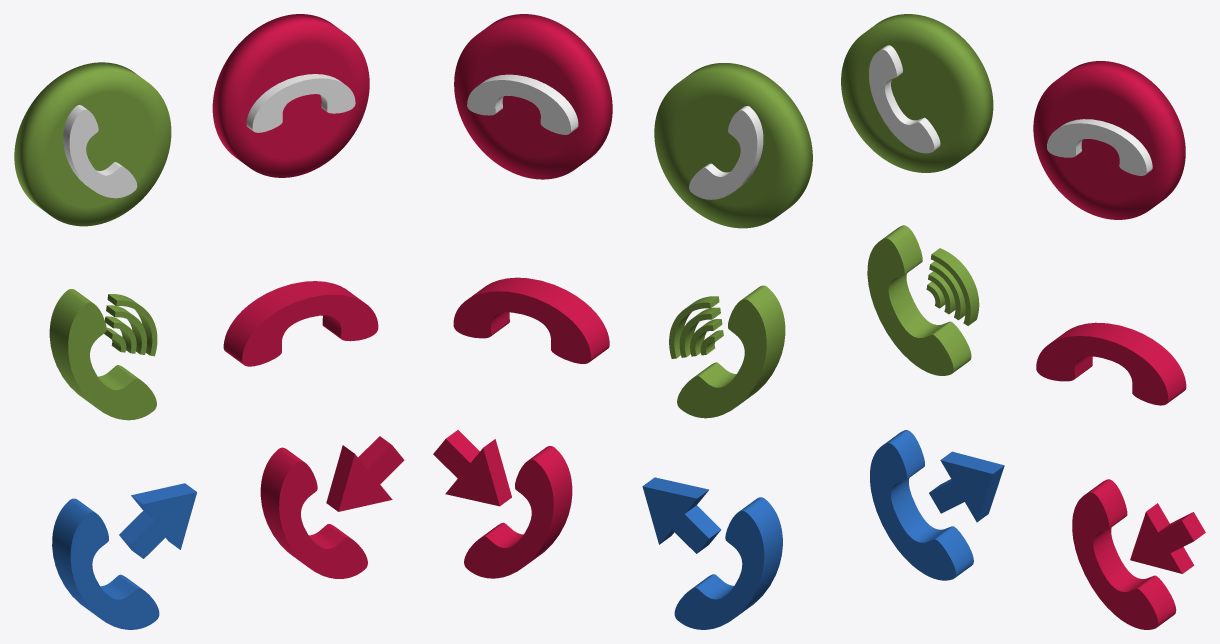
The picture shows the model from 3 angles, left to right: view 1: azimuth 30°, elevation 25°; view 2: azimuth 150°, elevation 25°; view 3: azimuth 330°, elevation 25°; orthographic projection. The views are drawn at different scales.
Parts seen in each view (by area): view 1: make_a_call, call_end, outcome_call, income_call, phone_ringing, end_call_2; view 2: call_end, make_a_call, outcome_call, income_call, phone_ringing, end_call_2; view 3: make_a_call, call_end, income_call, outcome_call, phone_ringing, end_call_2.
Boxes of the visible parts, bbox=[...] form: make_a_call: bbox=[14, 62, 171, 226]; call_end: bbox=[212, 14, 369, 177]; outcome_call: bbox=[52, 483, 196, 629]; income_call: bbox=[260, 436, 404, 578]; phone_ringing: bbox=[49, 289, 157, 420]; end_call_2: bbox=[223, 281, 378, 366]; call_end: bbox=[454, 14, 612, 179]; make_a_call: bbox=[654, 63, 812, 228]; outcome_call: bbox=[642, 477, 782, 629]; income_call: bbox=[433, 430, 572, 578]; phone_ringing: bbox=[669, 285, 785, 418]; end_call_2: bbox=[453, 277, 609, 363]; make_a_call: bbox=[841, 14, 993, 172]; call_end: bbox=[1033, 61, 1185, 219]; income_call: bbox=[1072, 479, 1205, 629]; outcome_call: bbox=[870, 430, 1004, 580]; phone_ringing: bbox=[867, 225, 979, 375]; end_call_2: bbox=[1036, 322, 1186, 405].
Size of the model in its own units: 51.3 by 73.9 by 6.61.
Materials: 6 (6 with a texture image).
